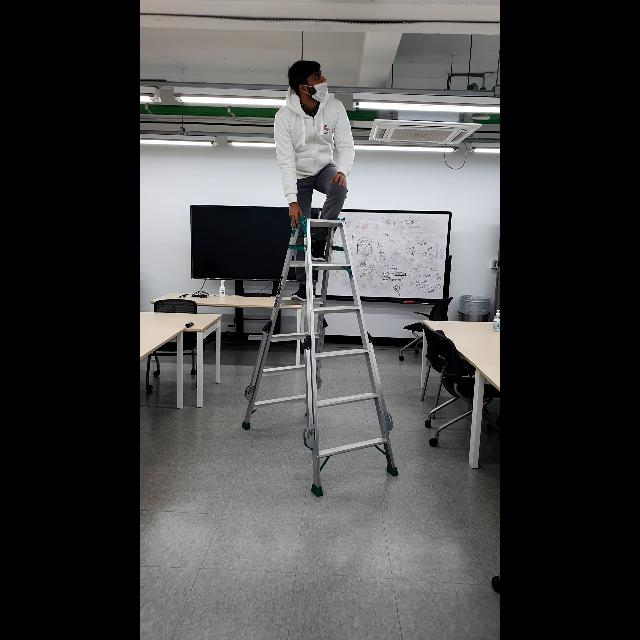hard hat: (236, 212, 400, 502)
vest: (271, 58, 355, 302)
